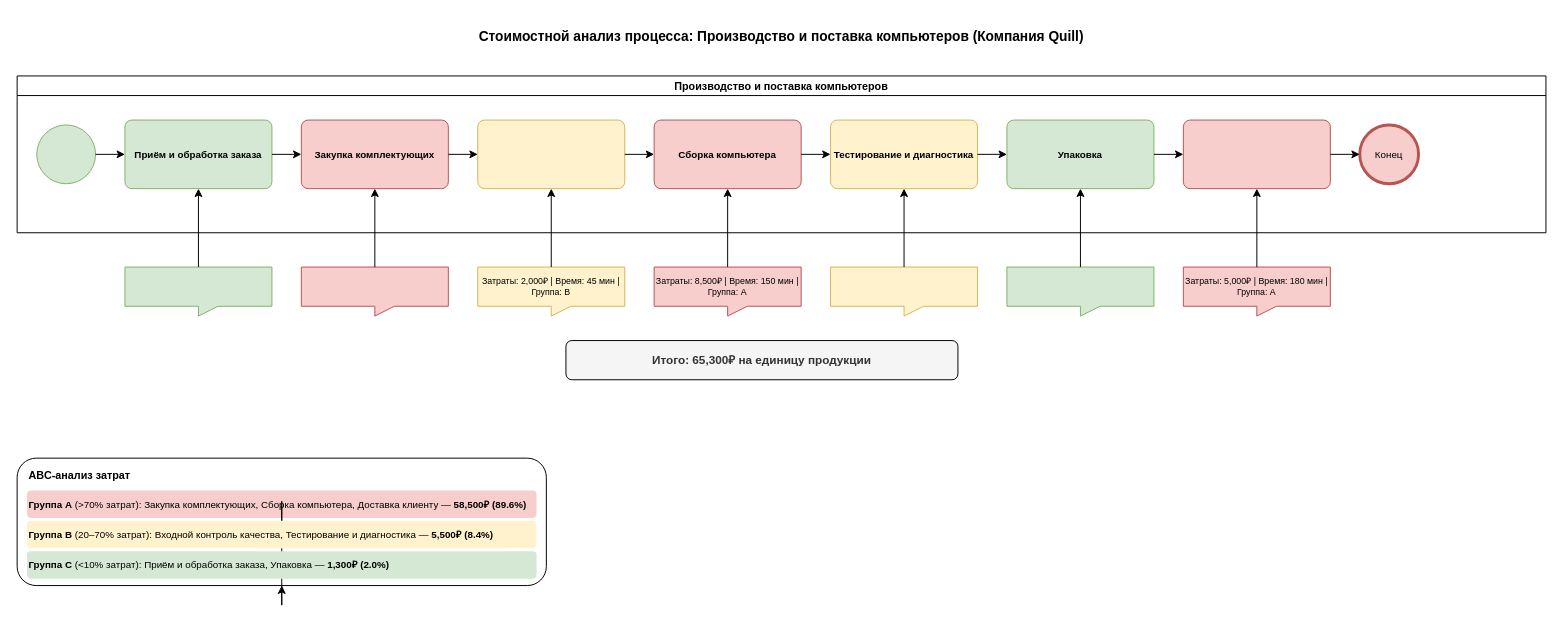
Image size: 1563x630. Some labels were removed from this diagram. The shapes that lost their labels are listed below. From the top down, each one's centre as x and y in pixels, then its label:
At pixel 66 154: "Начало".
At pixel 551 154: "Входной контроль качества".
At pixel 1256 154: "Доставка клиенту".
At pixel 198 291: "Затраты: 500₽ | Время: 20 мин | Группа: C".
At pixel 374 291: "Затраты: 45,000₽ | Время: 240 мин | Группа: A".
At pixel 904 291: "Затраты: 3,500₽ | Время: 90 мин | Группа: B".
At pixel 1080 291: "Затраты: 800₽ | Время: 25 мин | Группа: C".
